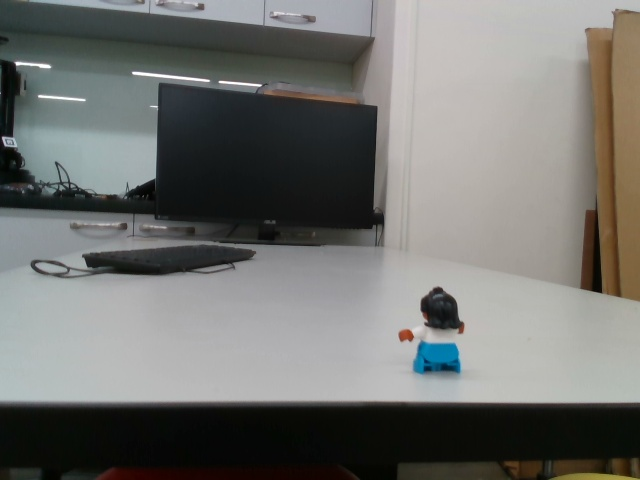people: (397, 285, 468, 379)
